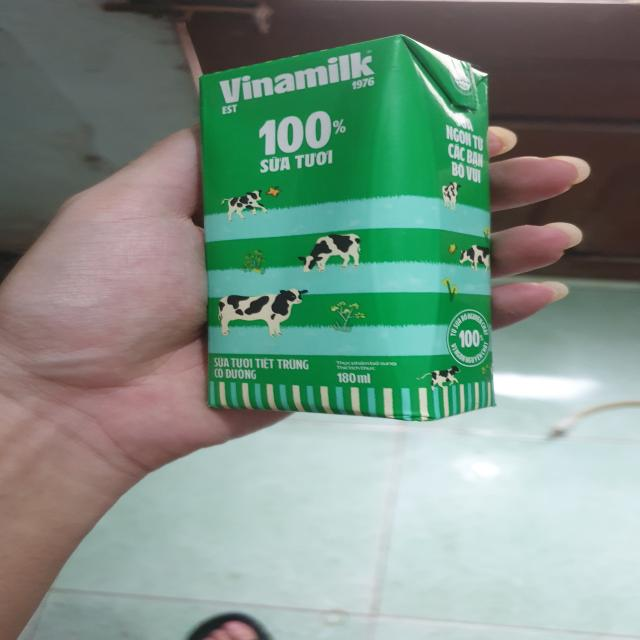Vina: (199, 33, 492, 422)
